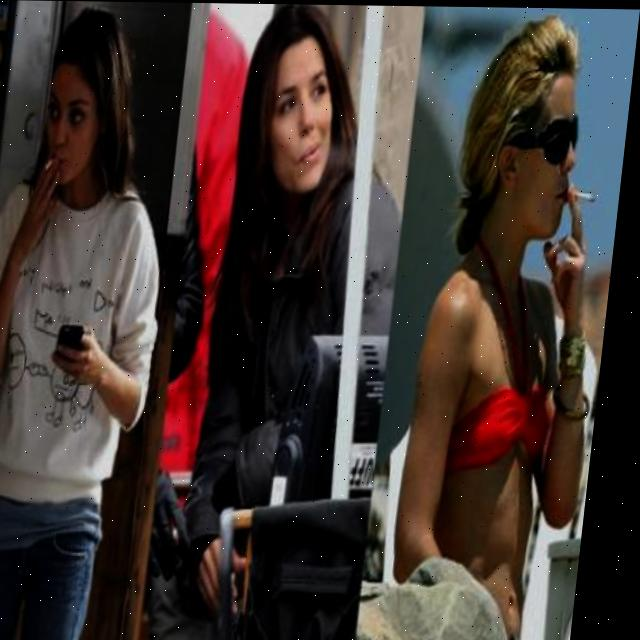cigarette: (574, 184, 603, 202), (48, 155, 59, 170)
